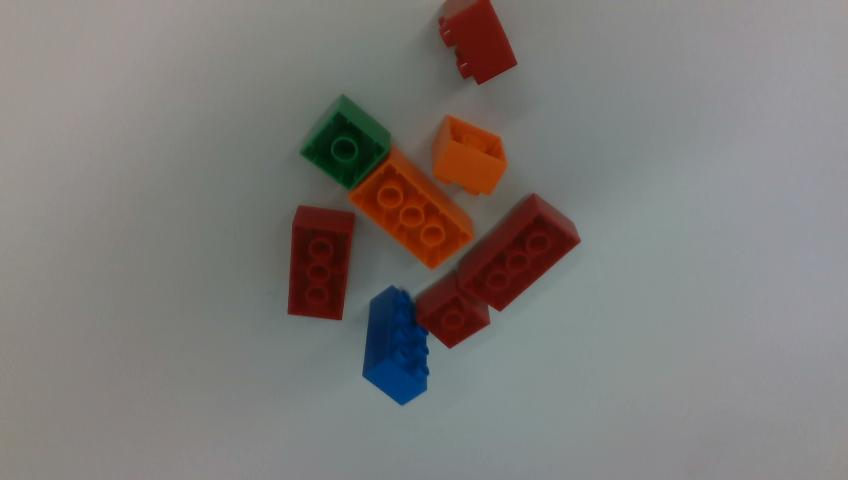2x2_green: (300, 95, 390, 190)
2x2_orange: (432, 115, 506, 195)
2x2_red: (438, 0, 516, 84), (417, 272, 489, 347)
4x2_blue: (362, 286, 428, 405)
4x2_orange: (348, 145, 473, 268)
4x2_red: (456, 194, 580, 310), (289, 206, 354, 319)
